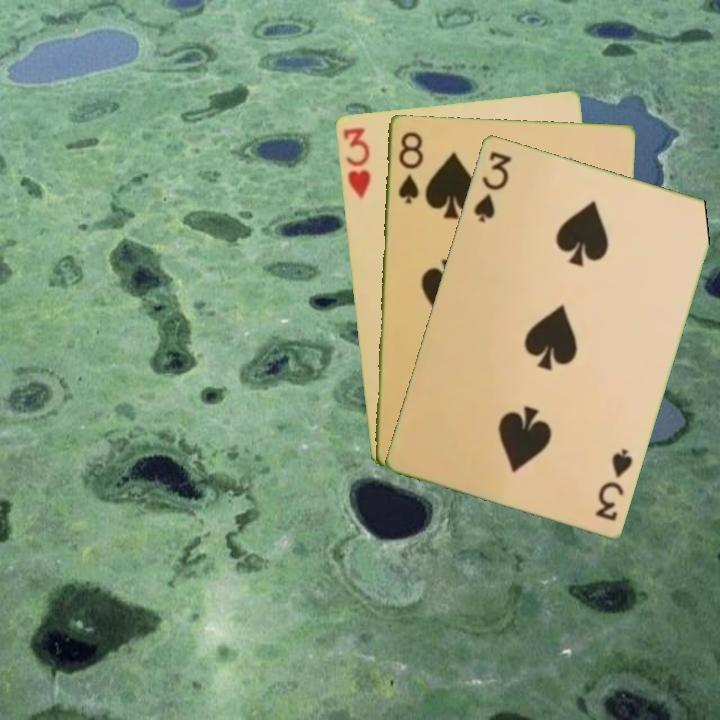3h: (339, 123, 373, 201)
3s: (469, 147, 514, 225), (591, 444, 635, 523)
8s: (394, 128, 425, 206)
